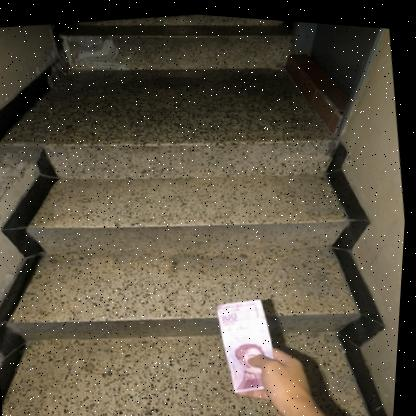one_hundred-front-vef: (214, 289, 286, 394)
